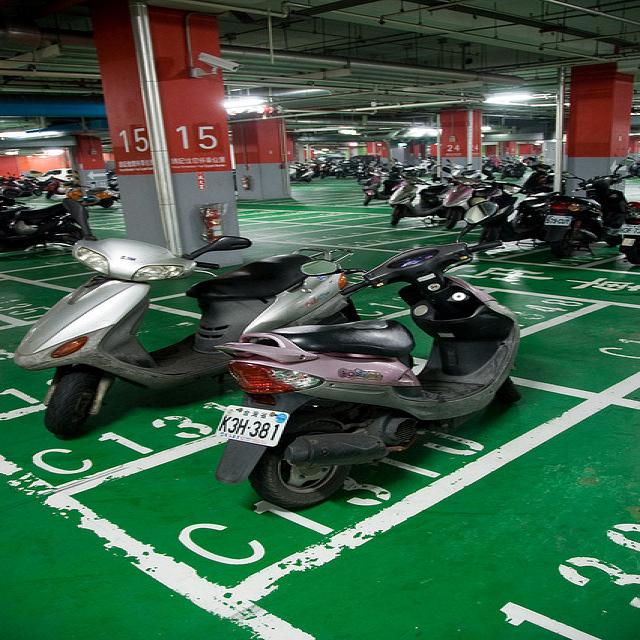motor: (213, 202, 522, 510), (11, 234, 349, 442), (539, 157, 640, 259), (0, 197, 100, 256), (438, 167, 508, 229), (388, 175, 453, 226), (63, 181, 119, 209), (360, 169, 401, 205), (618, 201, 640, 266), (389, 160, 421, 181), (355, 163, 383, 182)
